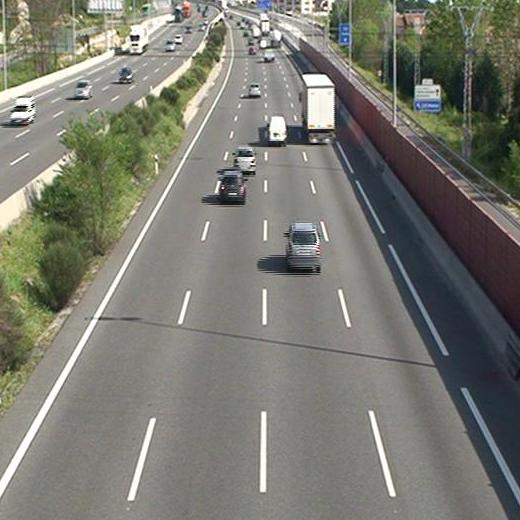car: (287, 223, 319, 263), (219, 170, 246, 202), (233, 146, 255, 174), (248, 82, 261, 96)
truck: (300, 74, 336, 143)
van: (267, 116, 286, 142), (263, 48, 274, 63)
